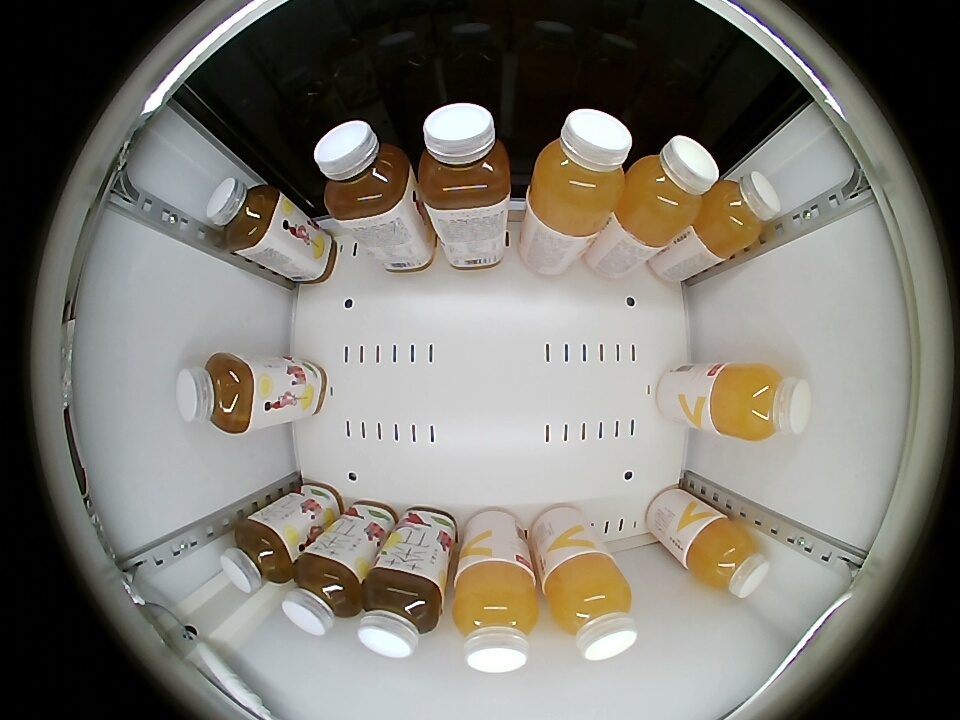chapai: (417, 103, 511, 212), (315, 121, 413, 222), (358, 568, 444, 659), (177, 352, 259, 435), (283, 552, 363, 636), (206, 178, 280, 254), (220, 518, 293, 593)
weic: (526, 108, 632, 235), (616, 135, 718, 247), (541, 556, 637, 661), (451, 563, 540, 673), (707, 362, 813, 442), (695, 172, 781, 257), (685, 517, 770, 598)
